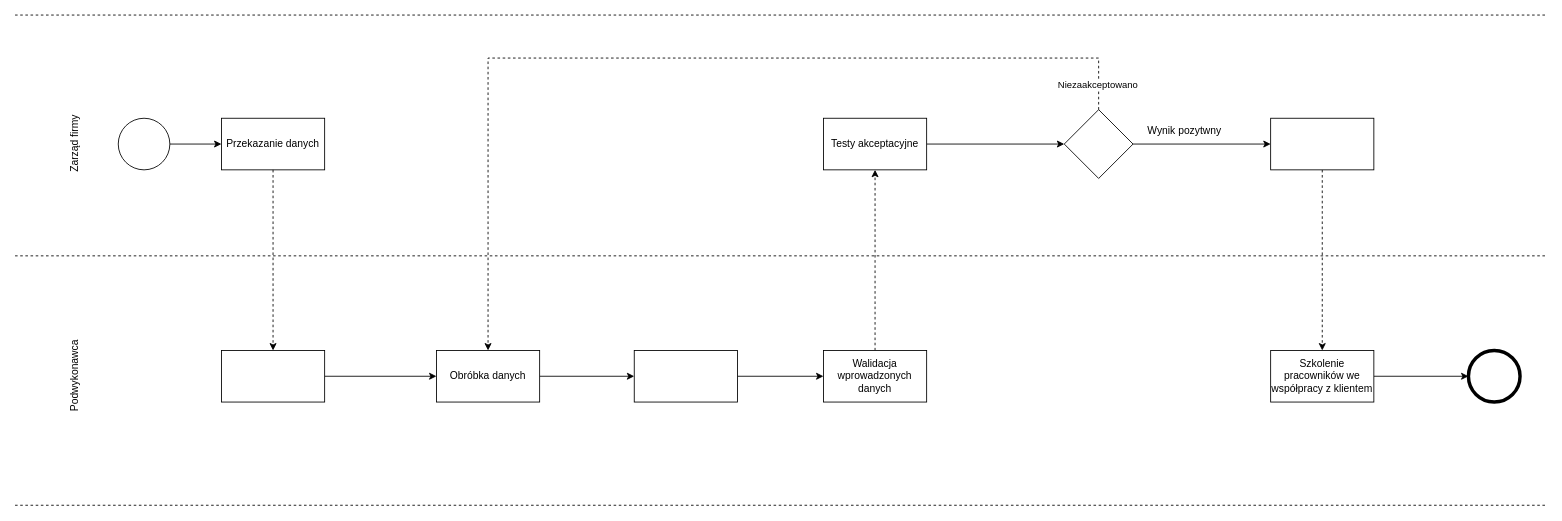
Some shapes in this 1562 by 521 pixel diagram are drawn without their labels. Here are the shapes that lost their labels. From the top down, the box of each, then its label:
(1270, 117, 1374, 170): Planowanie szkolenia pracowników
(221, 350, 325, 402): Odbiór danych
(633, 350, 737, 402): Wprowadzenie do bazy danych
